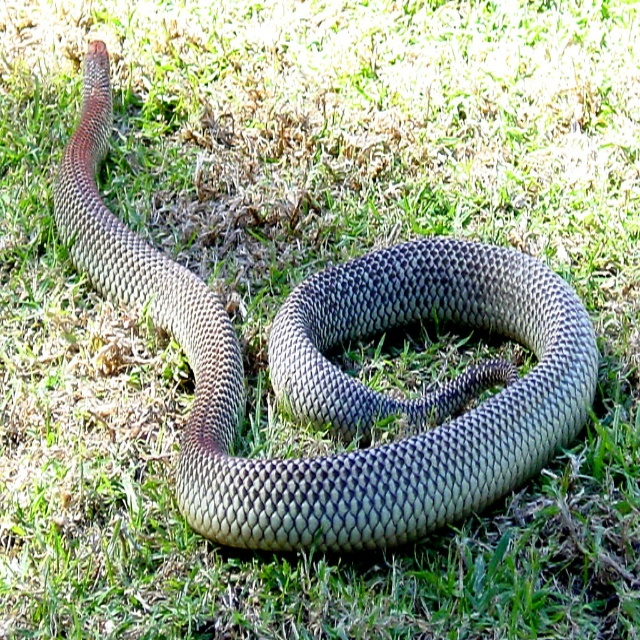Snake: (54, 40, 598, 552)
